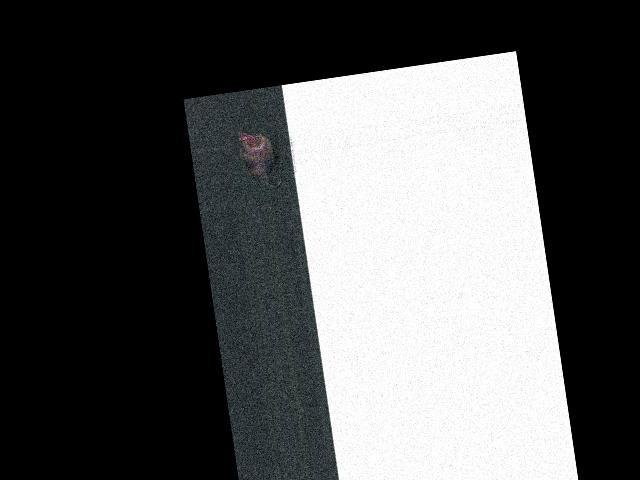beet: (236, 124, 285, 191)
